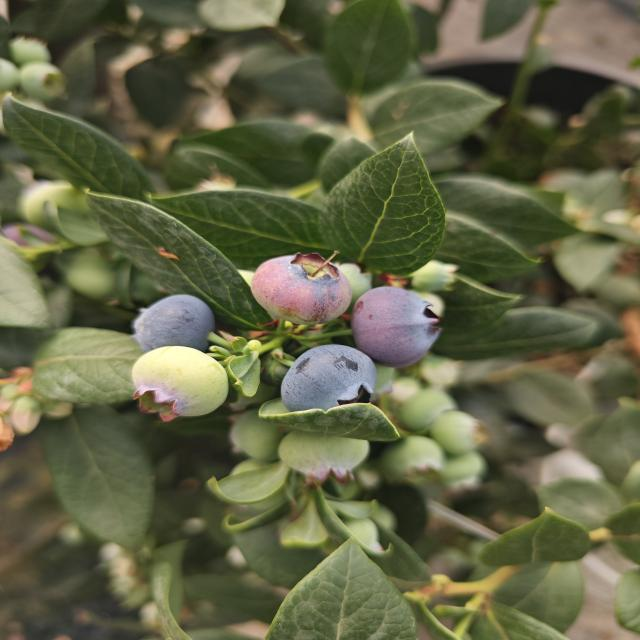ripe: (348, 284, 444, 370), (277, 343, 379, 415), (129, 293, 217, 353)
